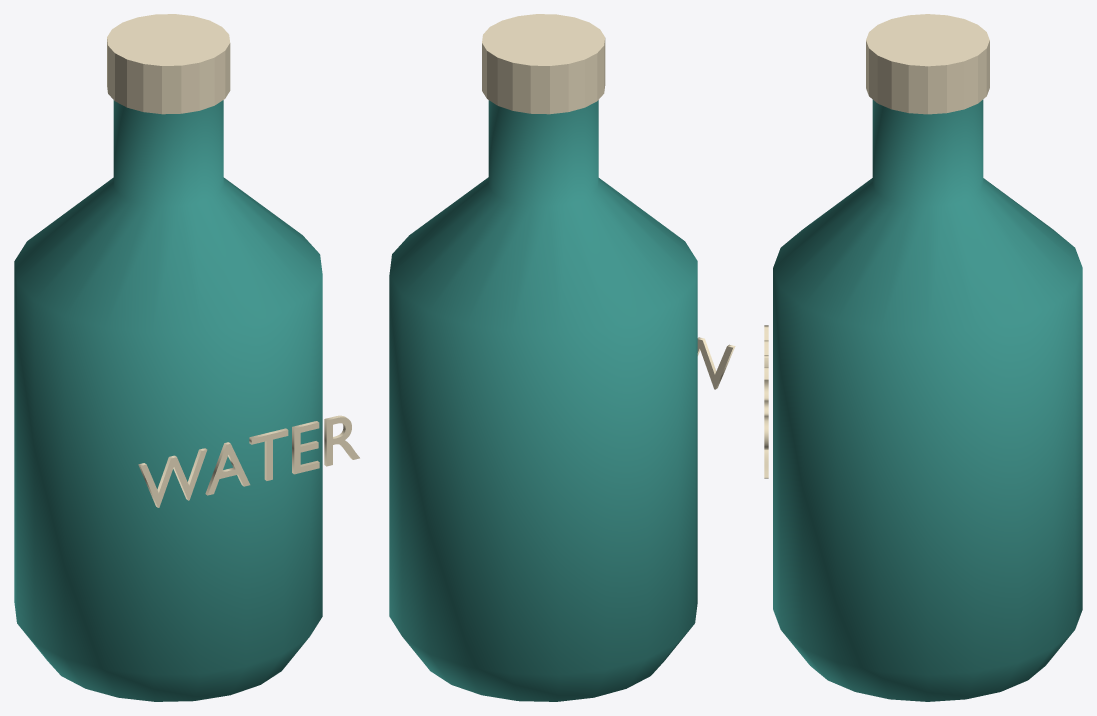
The model's file is AH03_WaterBottle.fbx.
3 renders of one model, left to right at view 1: azimuth 30°, elevation 25°; view 2: azimuth 150°, elevation 25°; view 3: azimuth 270°, elevation 25°, orthographic.
Parts seen in each view (by area): view 1: AH03_WaterBottle_AH03_Mint, AH03_WaterBottle_AH03_Cream; view 2: AH03_WaterBottle_AH03_Mint, AH03_WaterBottle_AH03_Cream; view 3: AH03_WaterBottle_AH03_Mint, AH03_WaterBottle_AH03_Cream.
Boxes of the visible parts, x1,y1,x2,y2 form: AH03_WaterBottle_AH03_Mint: (14,100,322,701); AH03_WaterBottle_AH03_Cream: (107,14,359,507); AH03_WaterBottle_AH03_Mint: (389,100,697,701); AH03_WaterBottle_AH03_Cream: (482,14,735,389); AH03_WaterBottle_AH03_Mint: (773,99,1082,701); AH03_WaterBottle_AH03_Cream: (764,14,989,478).
Bounding box in the file's own units: 14 × 30.4 × 14.4.
